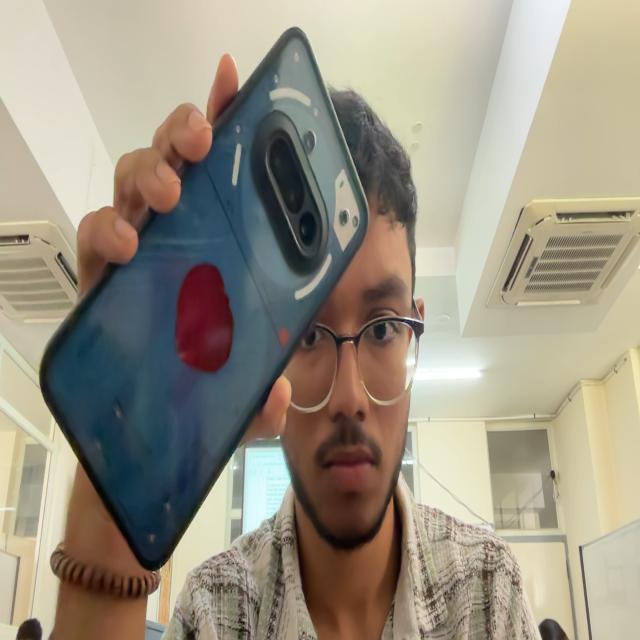Useful: (40, 28, 368, 569)
